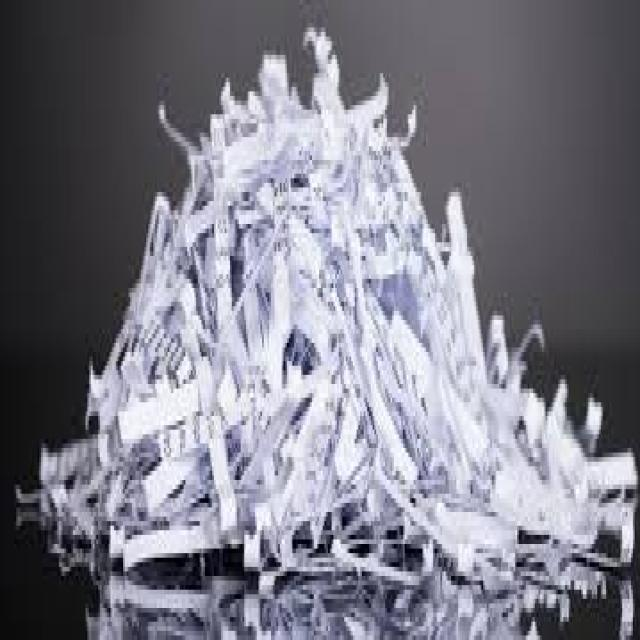paper: (6, 19, 639, 636)
